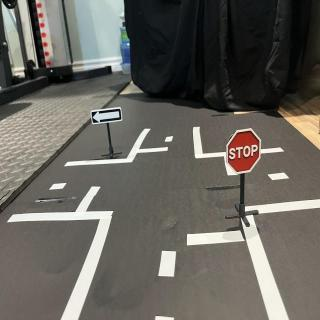sign_oneway_left: (91, 106, 125, 128)
sign_stop: (228, 131, 262, 173)
